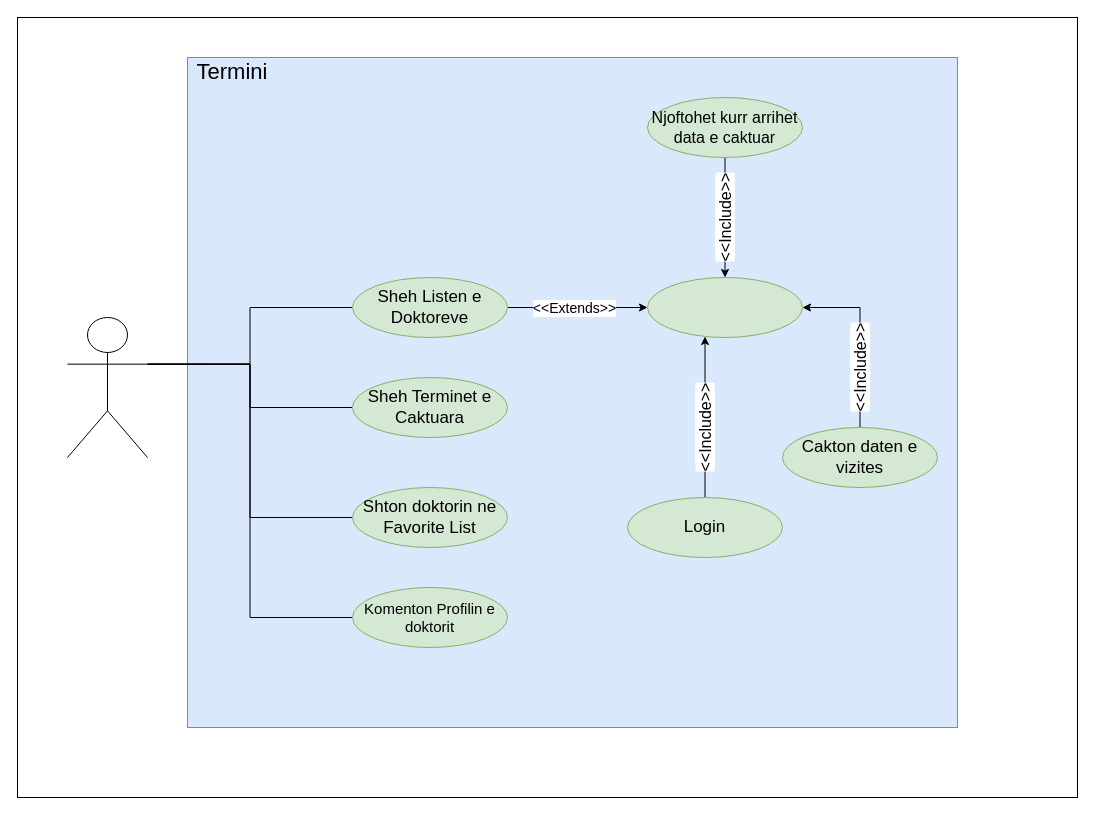
The diagram is 1095 pixels wide and 815 high, and some of its shapes have lost their labels. The shapes that lost their labels are listed below. From the top down, each one's centre as x and y in pixels, then its label:
At [724,307]: "Cakton Terminin".
At [107,387]: "Pacient".
